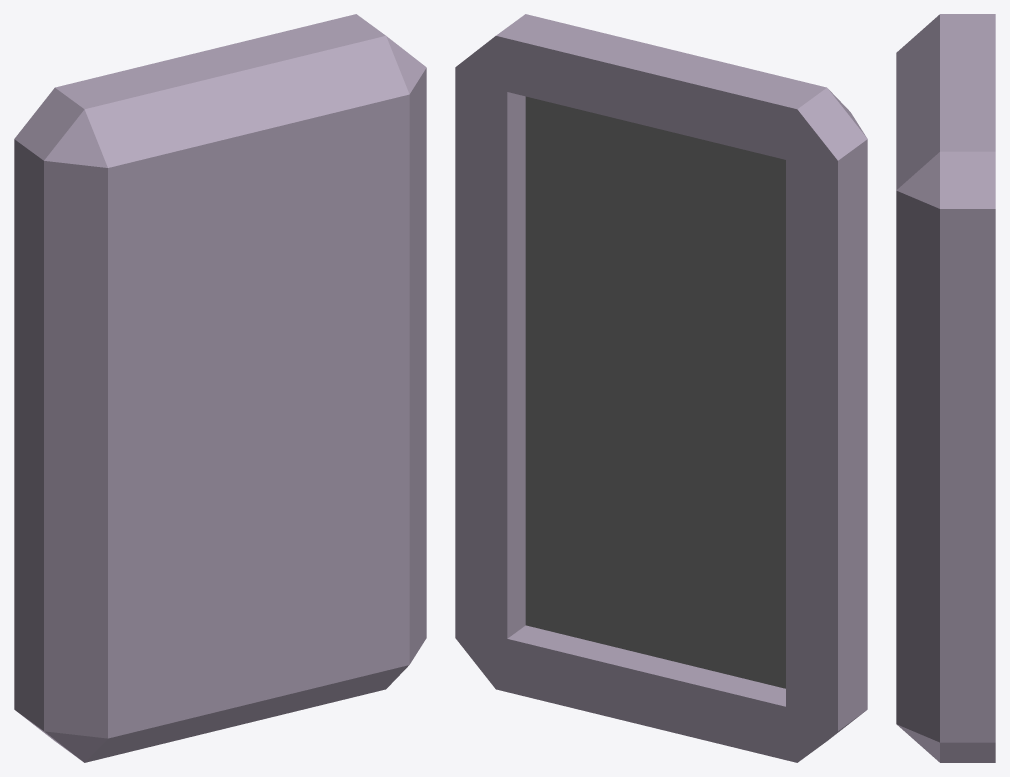
Rendered from Phone.fbx.
3 renders of one model, left to right at view 1: azimuth 30°, elevation 25°; view 2: azimuth 150°, elevation 25°; view 3: azimuth 270°, elevation 25°, orthographic. The views are drawn at different scales.
Parts seen in each view (by area): view 1: pCube2; view 2: pCube2; view 3: pCube2.
Boxes of the visible parts, bbox=[...] form: pCube2: bbox=[14, 14, 426, 762]; pCube2: bbox=[455, 14, 867, 762]; pCube2: bbox=[896, 14, 995, 762].
Bounding box in the file's own units: 10.28 × 16.77 × 2.47.
